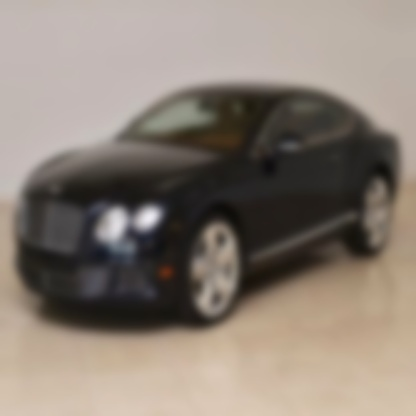Vehicle: (13, 78, 404, 333)
